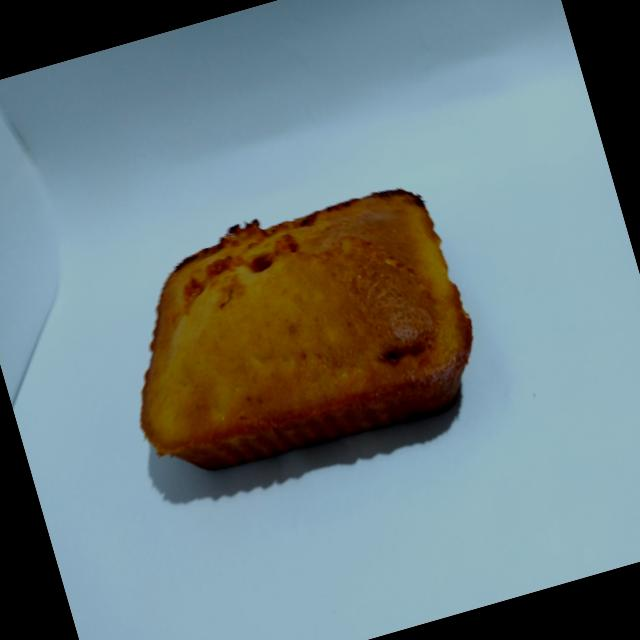Sopa: (88, 156, 503, 516)
